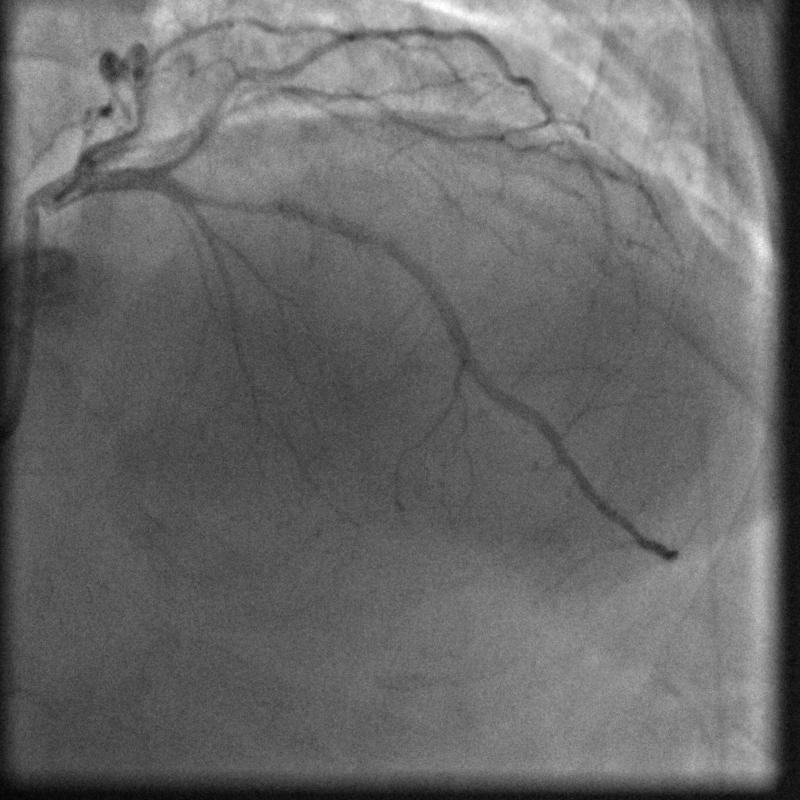Stenosis: (206, 184, 288, 222)
